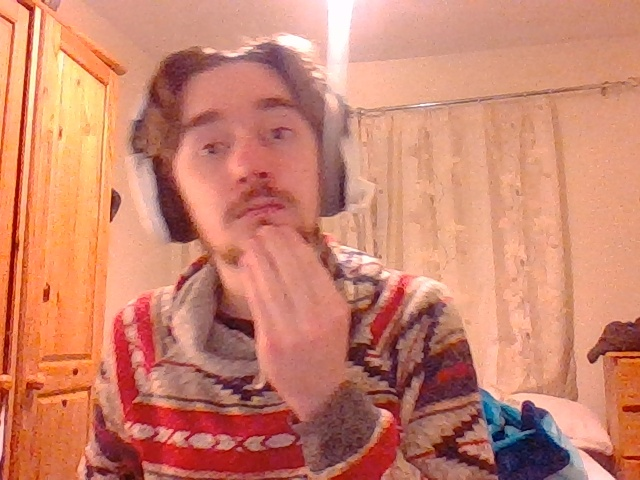thanks: (240, 223, 352, 394)
